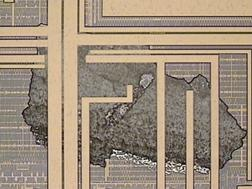BLOCK ETCH: (22, 22, 249, 180)
